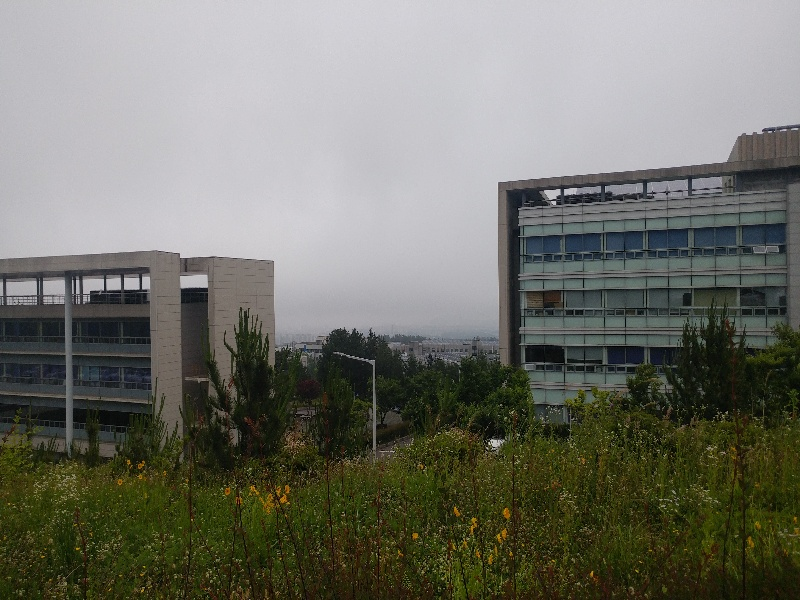College of Marine Science: (479, 109, 796, 405)
Engineering College Building 4: (1, 258, 277, 446)
